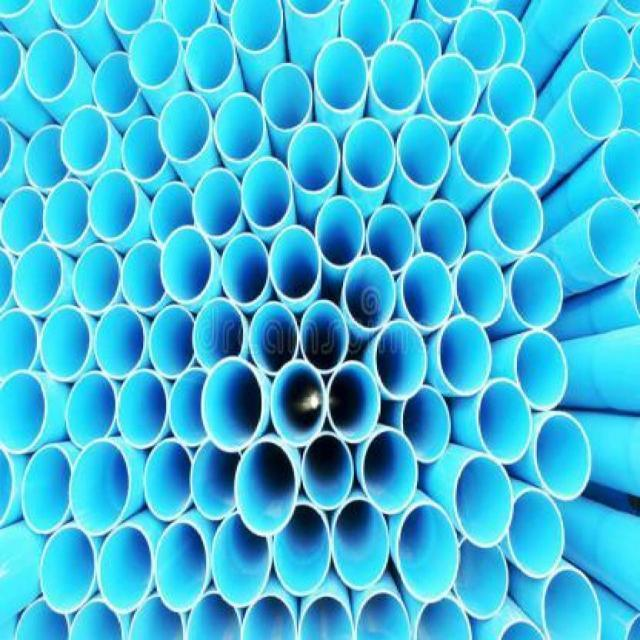pipe: (200, 356, 265, 453), (397, 503, 460, 603), (235, 438, 297, 537), (69, 440, 132, 535), (454, 454, 514, 550), (212, 513, 272, 608), (331, 499, 390, 590), (274, 504, 331, 597), (97, 523, 154, 614), (154, 521, 210, 612), (507, 489, 564, 578), (270, 360, 327, 448), (535, 412, 592, 500), (40, 526, 97, 614), (362, 428, 419, 515), (476, 379, 533, 464), (454, 537, 510, 620), (437, 315, 492, 397), (21, 445, 71, 535), (373, 319, 427, 401), (514, 330, 568, 412), (328, 361, 381, 444), (587, 196, 640, 278), (401, 251, 455, 331), (488, 178, 544, 255), (160, 226, 214, 305), (542, 568, 602, 639), (116, 370, 169, 450), (191, 438, 242, 521), (314, 39, 370, 114), (509, 253, 563, 330), (456, 114, 512, 188), (143, 440, 193, 522), (268, 226, 321, 303), (39, 305, 92, 382), (0, 370, 48, 455), (370, 40, 425, 114), (342, 256, 396, 331), (93, 303, 146, 379), (302, 432, 354, 509), (342, 118, 396, 192), (66, 372, 117, 450), (401, 385, 452, 463), (397, 115, 451, 188), (192, 298, 246, 371), (426, 54, 480, 127), (456, 251, 507, 328), (242, 156, 293, 232), (25, 30, 78, 103), (213, 92, 267, 163), (287, 122, 341, 193), (569, 70, 623, 140), (315, 196, 366, 270), (128, 20, 181, 91), (12, 242, 63, 315), (158, 91, 211, 161), (261, 63, 314, 133), (220, 233, 270, 307), (249, 302, 299, 376), (148, 304, 196, 380), (60, 105, 111, 176), (192, 168, 243, 239), (300, 301, 349, 374), (88, 171, 139, 241), (507, 117, 555, 191), (417, 199, 467, 269), (581, 16, 634, 82), (184, 24, 235, 92), (73, 243, 122, 313), (367, 203, 415, 274), (453, 7, 505, 72), (120, 239, 166, 312), (43, 180, 91, 249), (487, 63, 537, 128), (92, 50, 140, 117), (340, 0, 392, 60), (169, 368, 209, 446), (393, 19, 441, 84), (25, 125, 72, 191), (0, 306, 40, 383), (122, 116, 167, 184), (0, 186, 44, 254), (601, 128, 640, 204), (149, 182, 196, 244), (230, 0, 283, 54), (355, 591, 412, 639), (298, 593, 355, 640), (187, 592, 242, 640), (127, 593, 183, 640), (241, 594, 297, 639), (413, 597, 473, 639), (15, 595, 69, 640), (70, 598, 127, 640), (160, 0, 214, 40), (105, 0, 158, 33), (495, 11, 526, 67), (49, 0, 103, 29), (0, 31, 23, 99), (500, 615, 547, 640)
